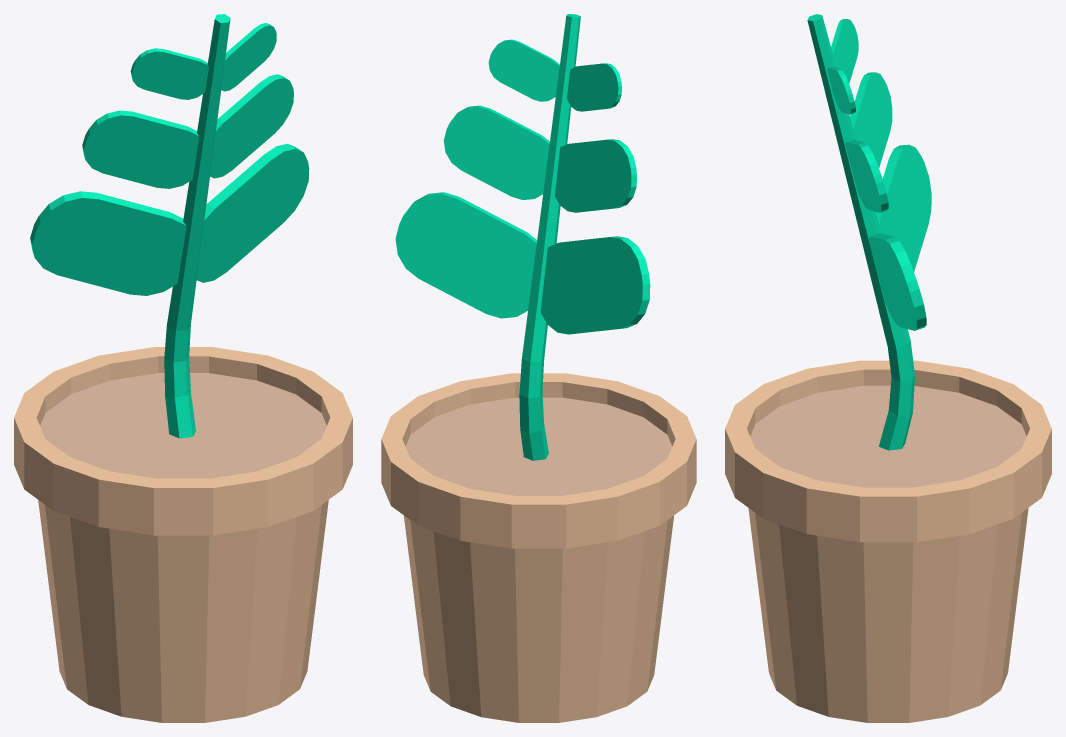
The model's file is Plant Pot 2.fbx.
The picture shows the model from 3 angles, left to right: view 1: azimuth 30°, elevation 25°; view 2: azimuth 150°, elevation 25°; view 3: azimuth 270°, elevation 25°; orthographic projection. The views are drawn at different scales.
Visible parts, largest first — view 1: Plant Pot 2, Plant 1; view 2: Plant Pot 2, Plant 1; view 3: Plant Pot 2, Plant 1.
Part boxes in pixels (x1,y1,x2,y2): Plant Pot 2: [14, 347, 352, 722]; Plant 1: [30, 14, 309, 438]; Plant Pot 2: [381, 373, 696, 722]; Plant 1: [395, 14, 650, 460]; Plant Pot 2: [725, 360, 1051, 722]; Plant 1: [807, 14, 931, 450].
Size of the model in its own units: 0.0734 by 0.1655 by 0.0745.
